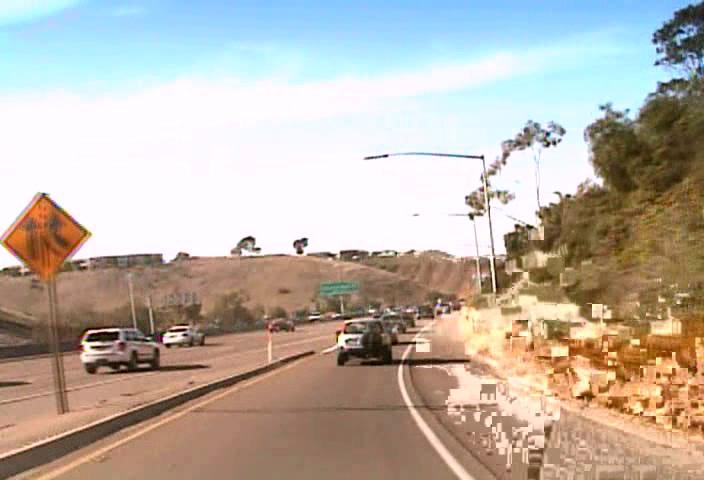addedLane: (0, 192, 91, 282)
